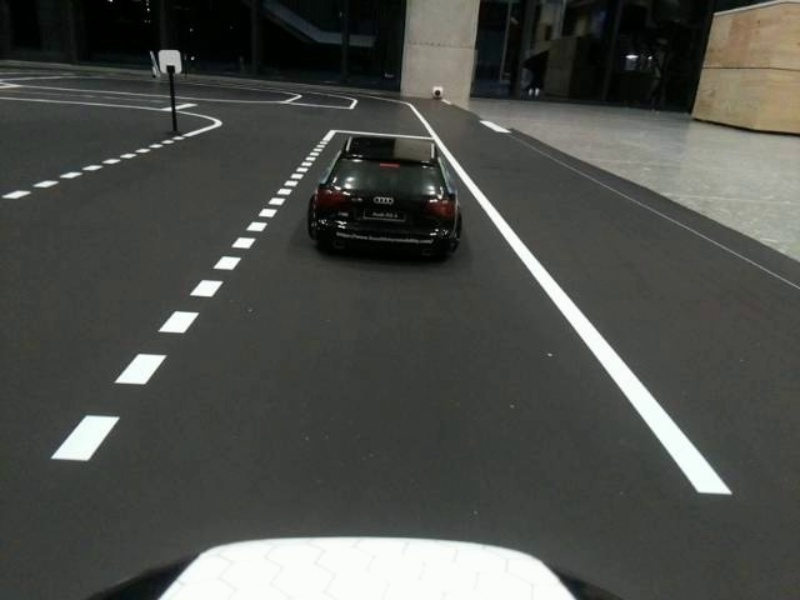car: (298, 129, 482, 270)
